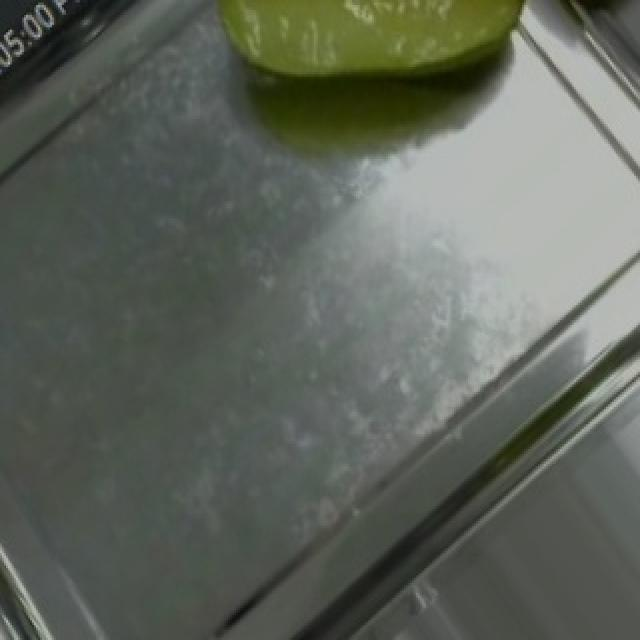fruit: (180, 0, 564, 179)
